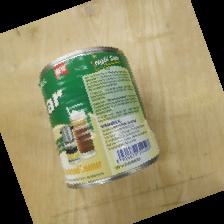NSPN_Lon: (39, 47, 161, 189)
